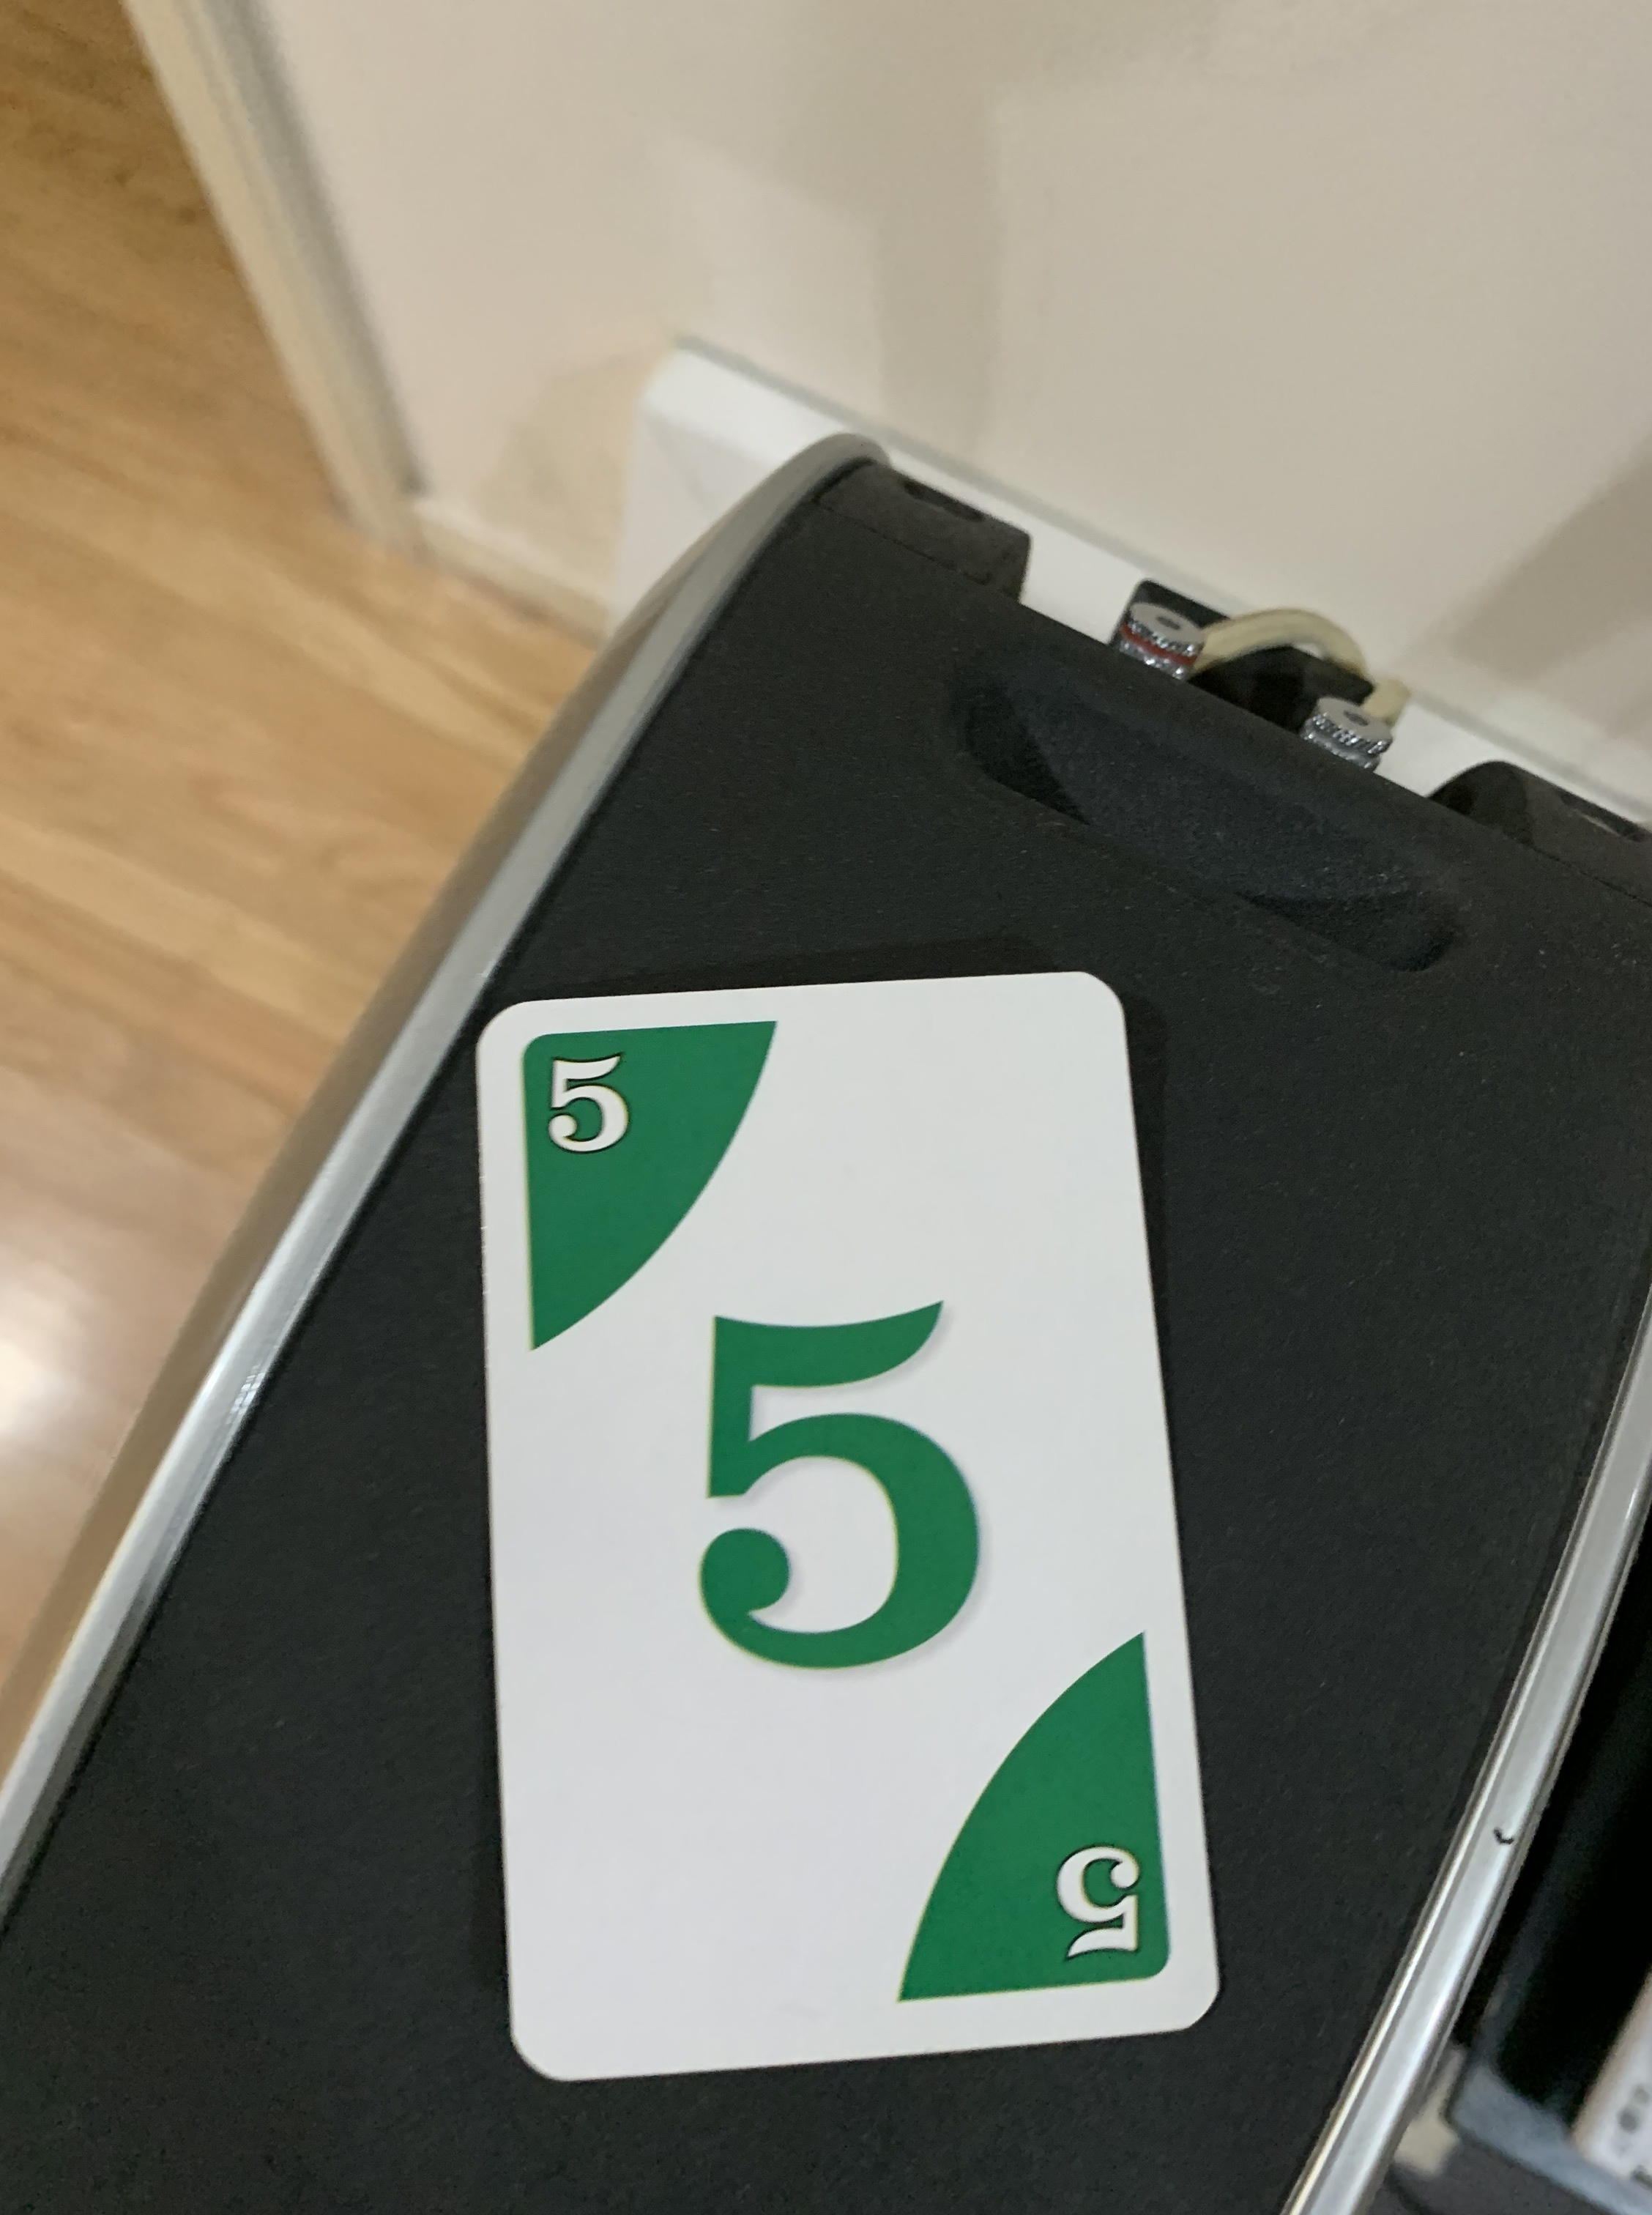five: (455, 983, 1268, 2088)
